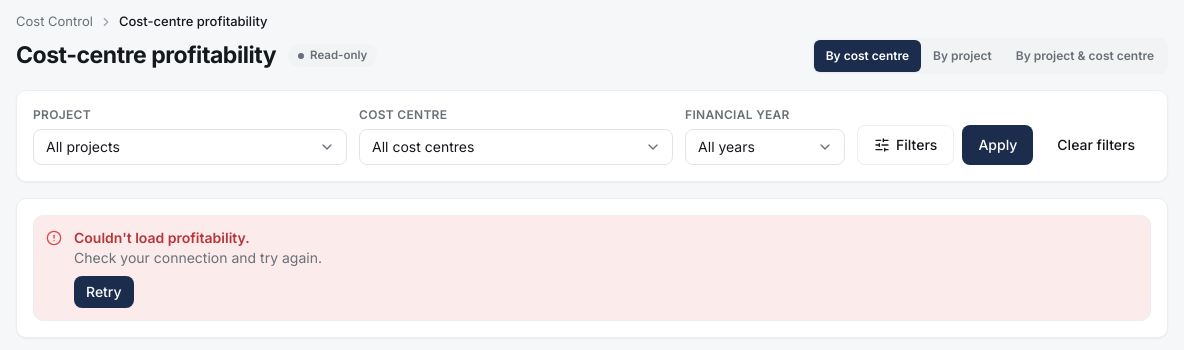
Test case: ProfitabilityScreen — state matrix + drill (spec §6) › error + retry refetches
What coordinates should you click on to do the following:
click the button with test id "profit-retry"
I would click on:
 (104, 292)
Its box is [74,276,134,308].
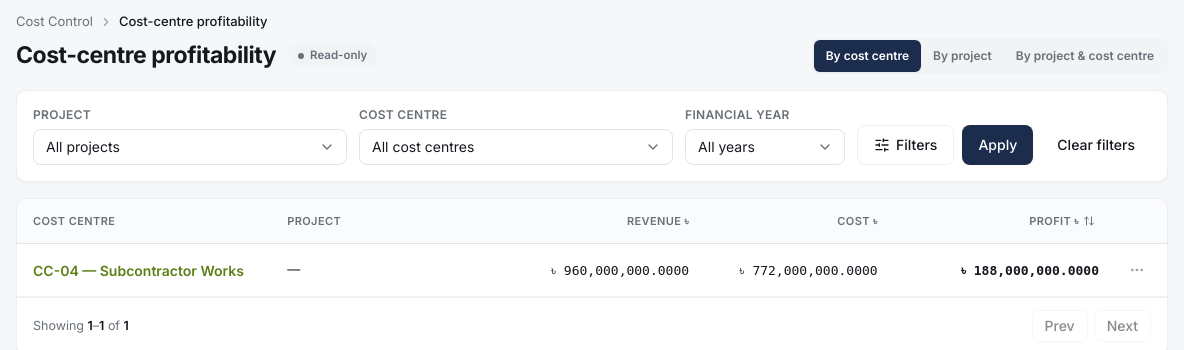
Expected: the element with test id "profit-table" is shown, [17,198,1167,297]
